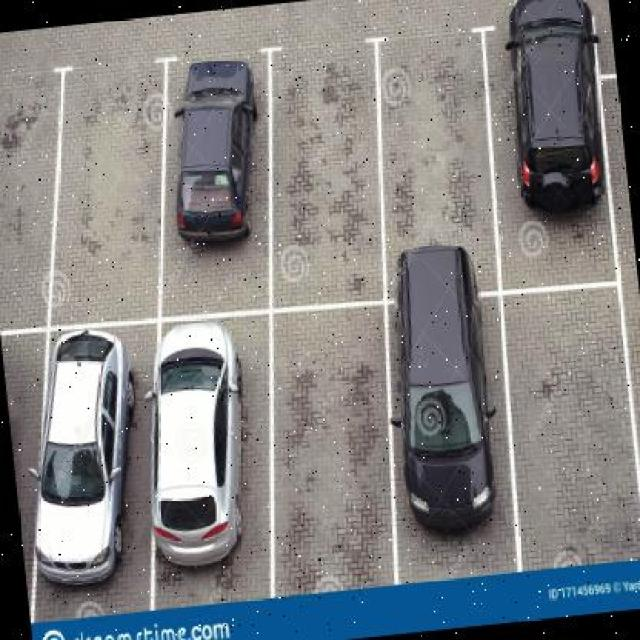Car: (398, 244, 512, 544), (30, 329, 141, 590), (152, 324, 261, 580), (504, 1, 611, 219), (173, 53, 269, 244)
Empty: (510, 290, 640, 561), (276, 317, 401, 586), (64, 67, 181, 309), (270, 49, 383, 292), (384, 40, 487, 246), (1, 75, 55, 309)
